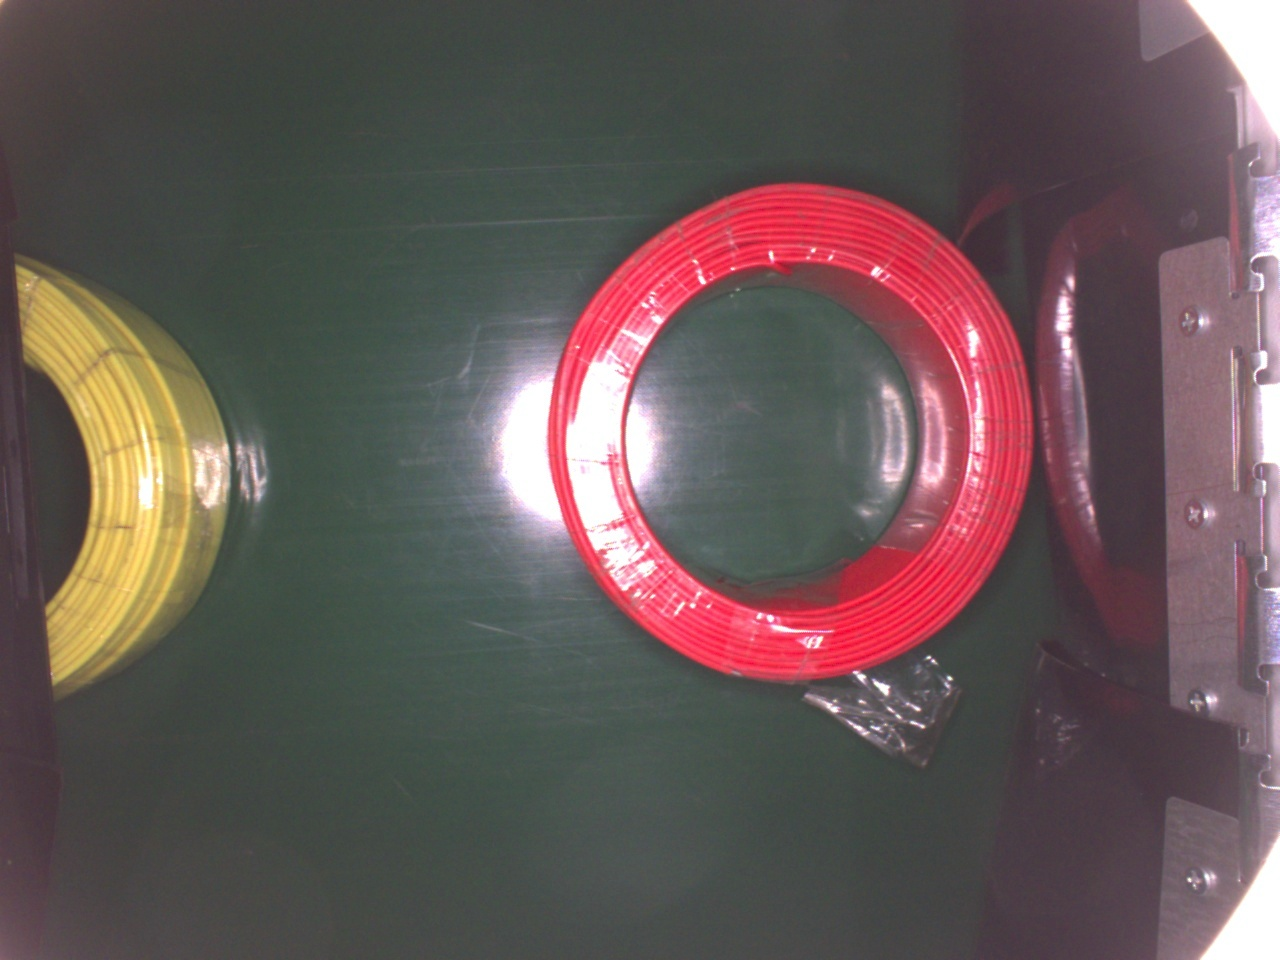red: (543, 179, 1042, 688)
yellow: (7, 254, 237, 700)
